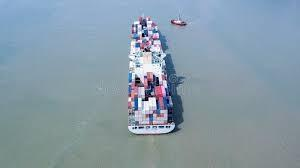Boat: (121, 11, 180, 142), (168, 14, 188, 30)
